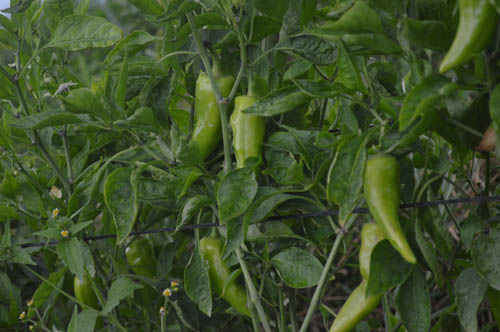ChiliPepper: (363, 159, 417, 263), (197, 240, 250, 315), (188, 73, 233, 158), (230, 98, 264, 169), (333, 283, 378, 331), (362, 220, 386, 280), (124, 238, 154, 280), (67, 273, 94, 306)
